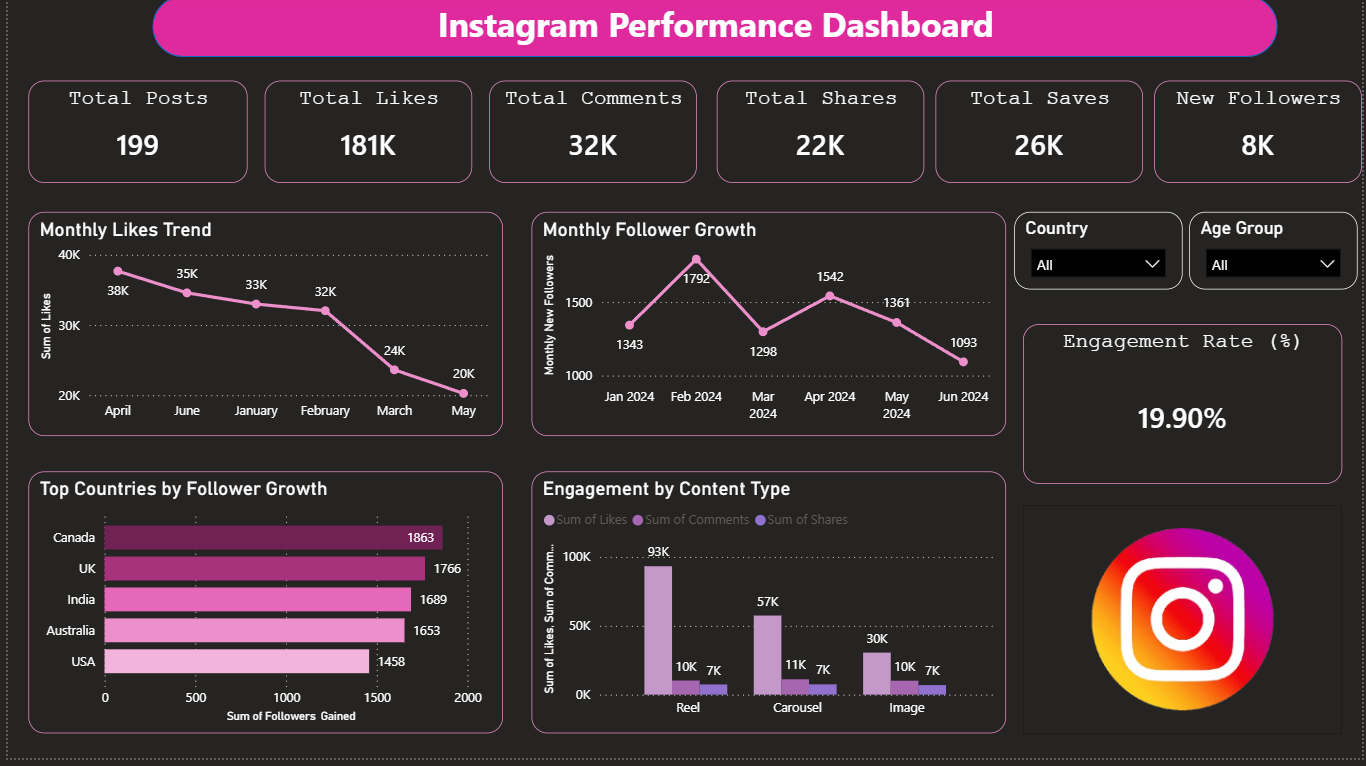

Layout of this report page (visuals, bound fields, positions):
{"tool":"powerbi","page":{"name":"Instagram Performance Dashboard","canvas":[1280,720],"ordinal":0},"visuals":[{"type":"cardVisual","title":"Total Posts","fields":{"Data":["CountNonNull(instagram_project instagram_data.Post_ID)"]},"box":[18.7,79.4,207.1,96.5],"z":0},{"type":"cardVisual","title":"Total Likes","fields":{"Data":["Sum(instagram_project instagram_data.Likes)"]},"box":[242.9,79.4,196.2,96.5],"z":1000},{"type":"cardVisual","title":"Total Comments","fields":{"Data":["Sum(instagram_project instagram_data.Comments)"]},"box":[454.6,79.4,196.2,96.5],"z":2000},{"type":"cardVisual","title":"Total Shares","fields":{"Data":["Sum(instagram_project instagram_data.Shares)"]},"box":[669.5,79.4,196.2,96.5],"z":3000},{"type":"cardVisual","title":"Total Saves","fields":{"Data":["Sum(instagram_project instagram_data.Saves)"]},"box":[876.6,79.4,196.2,96.5],"z":4000},{"type":"cardVisual","title":"New Followers","fields":{"Data":["Sum(instagram_project instagram_data.Followers_Gained)"]},"box":[1083.6,79.4,196.2,96.5],"z":5000},{"type":"shape","box":[137,0,1063.4,57.6],"z":6000},{"type":"textbox","box":[401,0,573.3,59.3],"z":7000},{"type":"lineChart","title":"Monthly Likes Trend","fields":{"Category":["instagram_project instagram_data.Month"],"Y":["Sum(instagram_project instagram_data.Likes)"]},"box":[18.7,204,448.4,211.7],"z":8000},{"type":"lineChart","title":"Monthly Follower Growth","fields":{"Y":["instagram project instagram data.Monthly New Followers"],"Category":["instagram project instagram data.Month Year"]},"box":[495.1,204,448.4,211.7],"z":9000},{"type":"clusteredBarChart","title":"Top Countries by Follower Growth","fields":{"Category":["instagram project instagram data.Country"],"Y":["Sum(instagram project instagram data.Followers_Gained)"]},"box":[18.7,450,448.4,247.6],"z":10000},{"type":"clusteredColumnChart","title":"Engagement by Content Type","fields":{"Category":["instagram project instagram data.Post_Type"],"Y":["Sum(instagram project instagram data.Likes)","Sum(instagram project instagram data.Comments)","Sum(instagram project instagram data.Shares)"]},"box":[495.1,450,448.4,247.6],"z":11000},{"type":"slicer","title":"Age Group","fields":{"Values":["instagram project instagram data.Age_Group"]},"box":[1116.3,204,158.8,73.2],"z":12000},{"type":"slicer","title":"Country","fields":{"Values":["instagram project instagram data.Country"]},"box":[951.3,204,158.8,73.2],"z":13000},{"type":"cardVisual","title":"Engagement Rate (%)","fields":{"Data":["instagram project instagram data.Engagement Rate %"]},"box":[959.1,309.8,302.1,151],"z":14000},{"type":"image","box":[959.1,481.1,302.1,216.4],"z":15000}]}

Visuals, with their boxes in screenshot pixels (x1, y1, x2, y2), scaled from the page's 1280x720 canvas onto the 1366x766 screenshot:
"Total Posts" cardVisual: bbox(20, 84, 241, 187)
"Total Likes" cardVisual: bbox(259, 84, 469, 187)
"Total Comments" cardVisual: bbox(485, 84, 695, 187)
"Total Shares" cardVisual: bbox(714, 84, 924, 187)
"Total Saves" cardVisual: bbox(935, 84, 1145, 187)
"New Followers" cardVisual: bbox(1156, 84, 1365, 187)
shape: bbox(146, 0, 1281, 61)
textbox: bbox(428, 0, 1040, 63)
"Monthly Likes Trend" lineChart: bbox(20, 217, 498, 442)
"Monthly Follower Growth" lineChart: bbox(528, 217, 1007, 442)
"Top Countries by Follower Growth" clusteredBarChart: bbox(20, 479, 498, 742)
"Engagement by Content Type" clusteredColumnChart: bbox(528, 479, 1007, 742)
"Age Group" slicer: bbox(1191, 217, 1361, 295)
"Country" slicer: bbox(1015, 217, 1185, 295)
"Engagement Rate (%)" cardVisual: bbox(1024, 330, 1346, 490)
image: bbox(1024, 512, 1346, 742)
